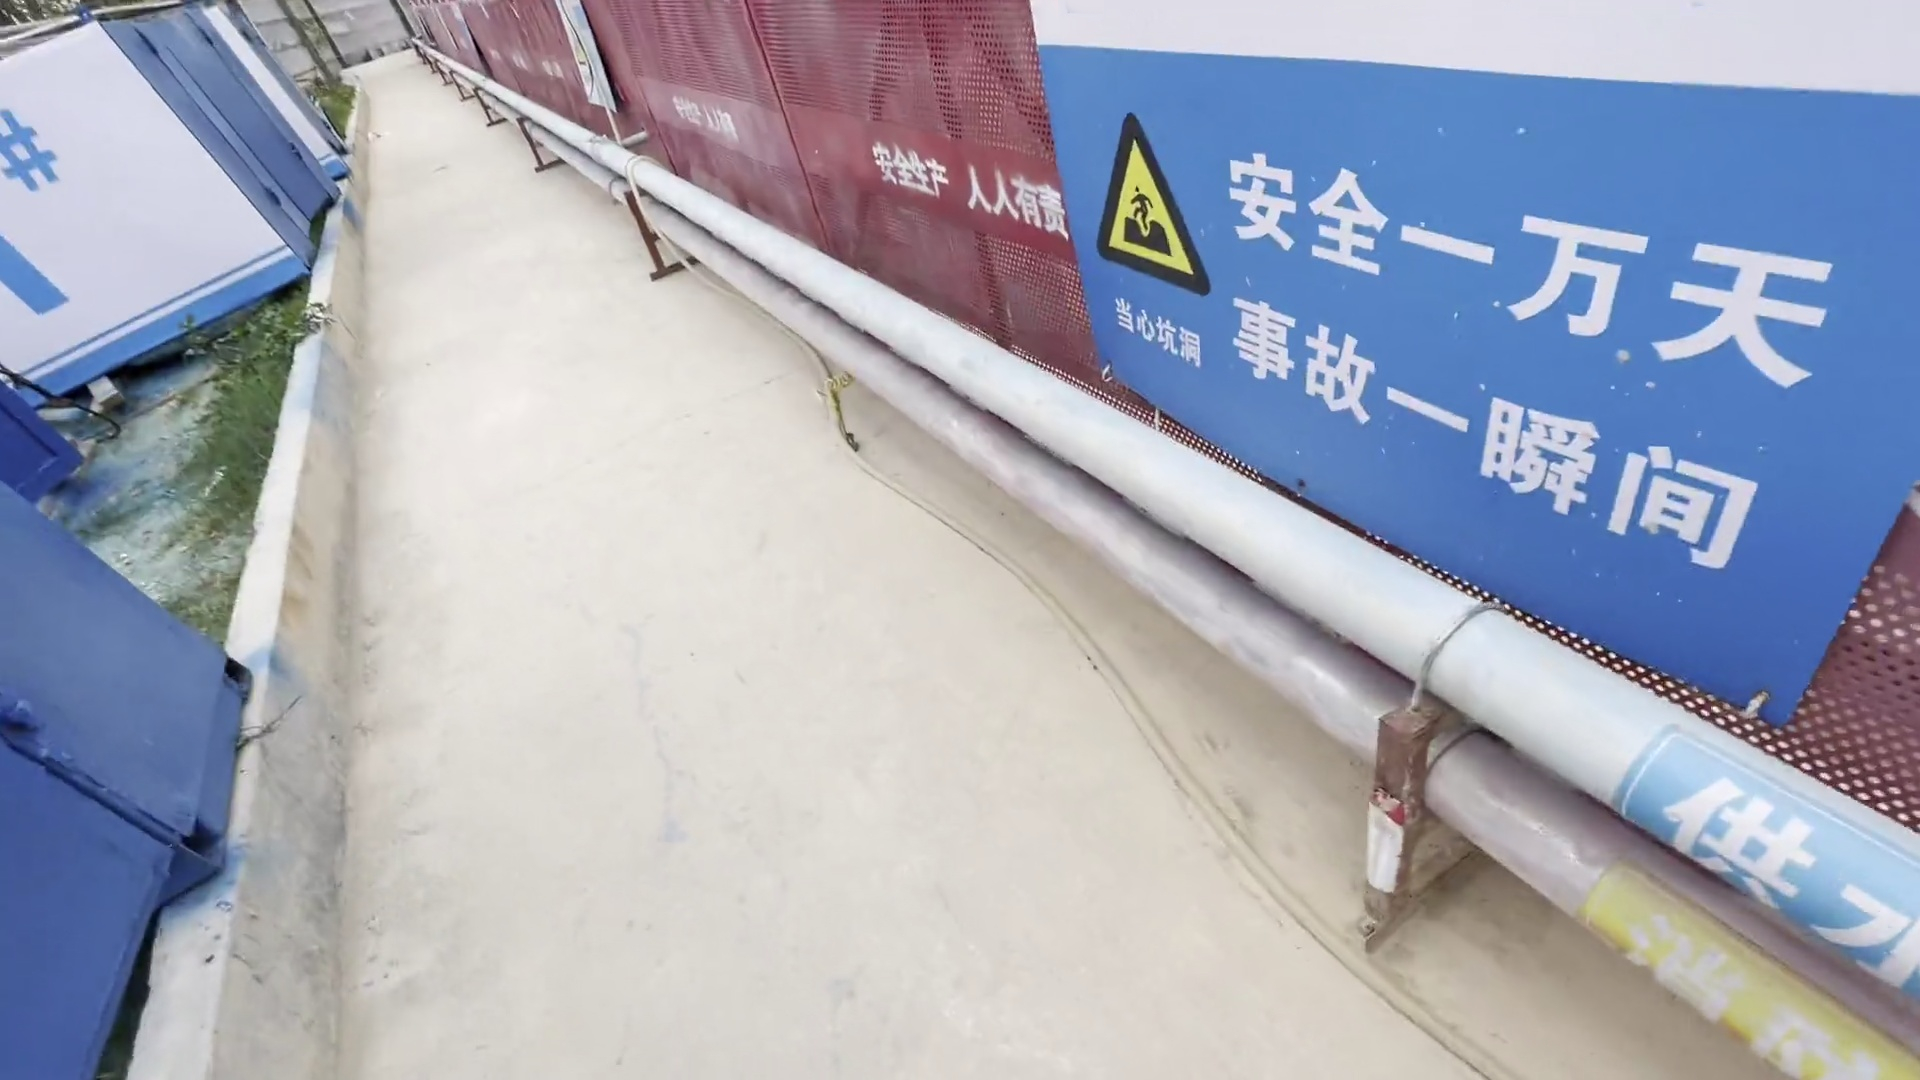fence: (487, 18, 1887, 605)
slogan: (1038, 22, 1896, 691)
